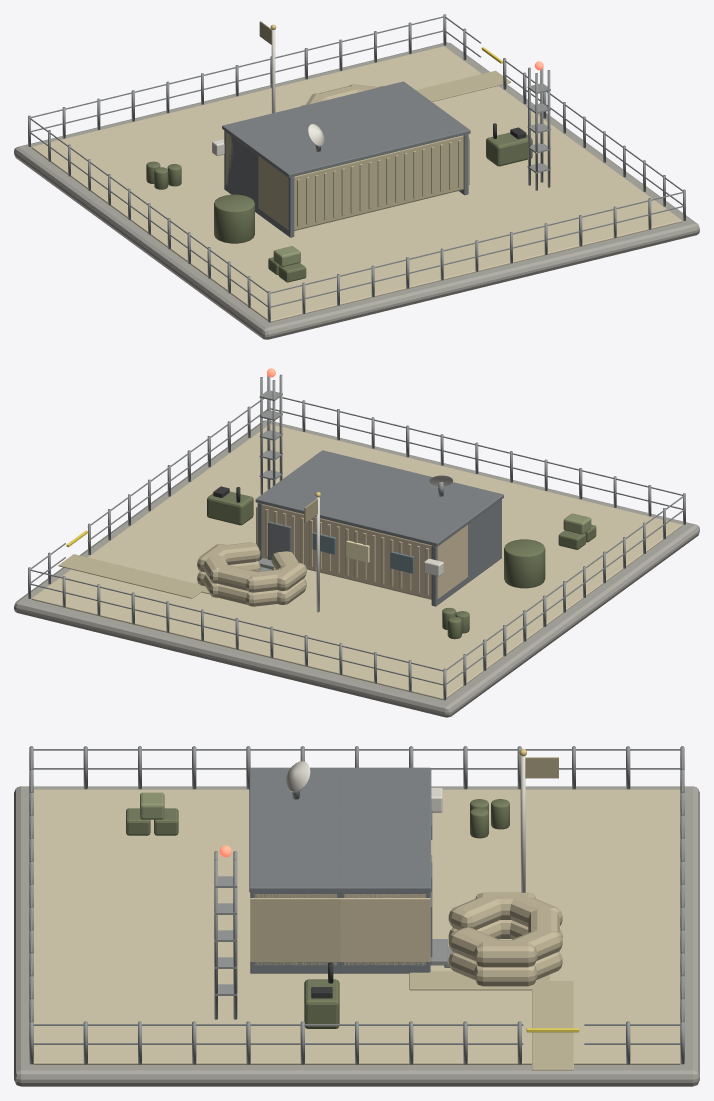
The picture shows the model from 3 angles, top to bottom: view 1: azimuth 30°, elevation 25°; view 2: azimuth 150°, elevation 25°; view 3: azimuth 270°, elevation 25°; orthographic projection. The views are drawn at different scales.
Visible parts, largest first — view 1: Cube.001, Cube, Cube.004, Cube.027, Cube.051, Cylinder.009, Cube.029, Cube.002, Cube.064, Cube.084, Cube.088, Cube.089 (+4 smaller); view 2: Cube.001, Cube, Cube.028, Cube.051, Cube.027, Cube.002, Cube.005, Cylinder.009, Cube.064, Cube.083, Cube.088, Cube.084 (+9 smaller); view 3: Cube.001, Cube, Cube.051, Cube.027, Cube.026, Cube.050, Cube.002, Cube.003, Cube.070, Cube.064, Cube.030, Cube.080 (+25 smaller).
Boxes of the visible parts, x1,y1,x2,y2 form: Cube.001: (31,46,682,322); Cube: (14,42,699,339); Cube.004: (258,135,463,230); Cube.027: (255,105,470,177); Cube.051: (222,81,436,153); Cylinder.009: (214,194,254,243); Cube.029: (224,130,256,212); Cube.002: (416,70,510,101); Cube.064: (486,132,532,166); Cube.084: (270,206,683,307); Cube.088: (31,16,443,118); Cube.089: (270,192,683,293); Cube.001: (31,424,682,700); Cube: (14,420,699,717); Cube.028: (262,504,467,599); Cube.051: (255,474,470,546); Cube.027: (289,450,503,521); Cube.002: (58,554,205,598); Cube.005: (469,499,501,581); Cylinder.009: (504,539,545,588); Cube.064: (207,491,253,525); Cube.083: (30,583,443,685); Cube.088: (30,569,443,671); Cube.084: (270,408,682,509); Cube.001: (33,789,680,1064); Cube: (14,786,699,1086); Cube.051: (339,767,431,892); Cube.027: (249,767,341,892); Cube.026: (250,898,340,961); Cube.050: (340,898,430,961); Cube.002: (532,981,573,1070); Cube.003: (409,971,549,990); Cube.070: (474,940,537,967); Cube.064: (304,979,339,1028); Cube.030: (340,892,430,973); Cube.080: (448,897,501,929).
Bounding box in the file's own units: 3.92 × 1.18 × 3.92.
